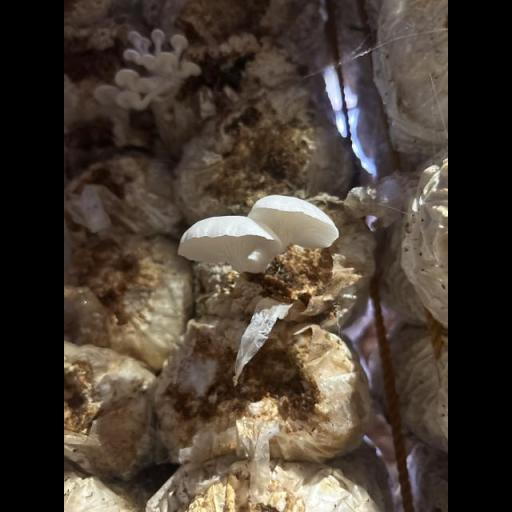White Oyster Mushroom: (169, 178, 347, 288)
